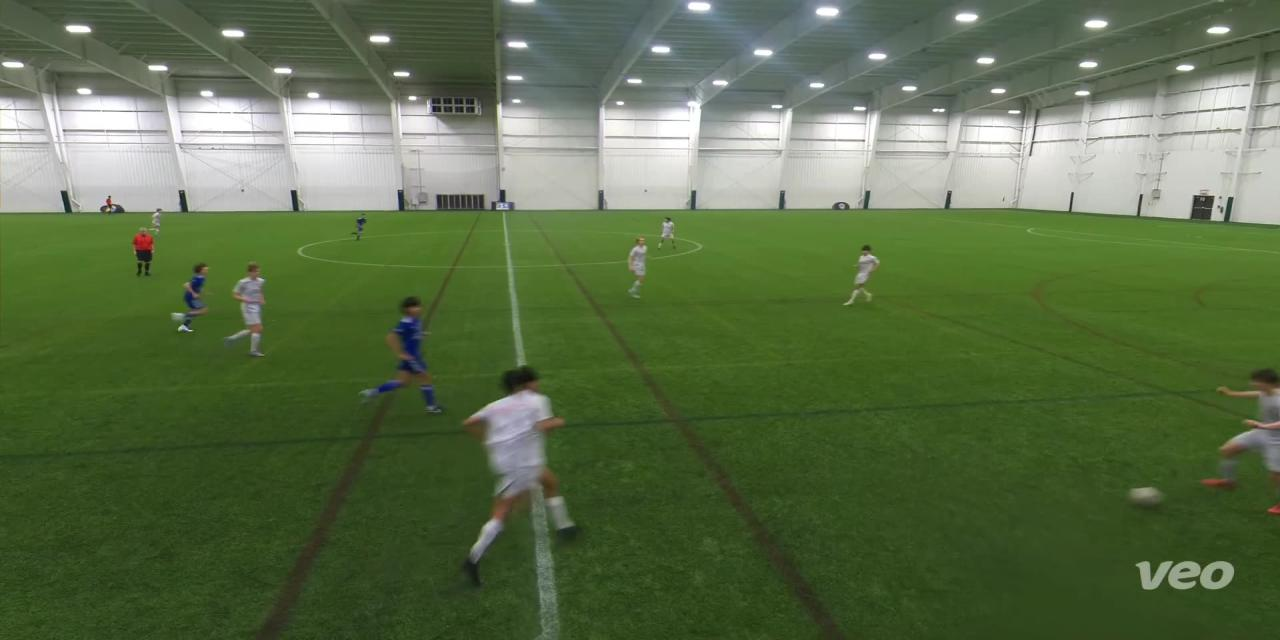sports ball: (1125, 479, 1171, 517)
